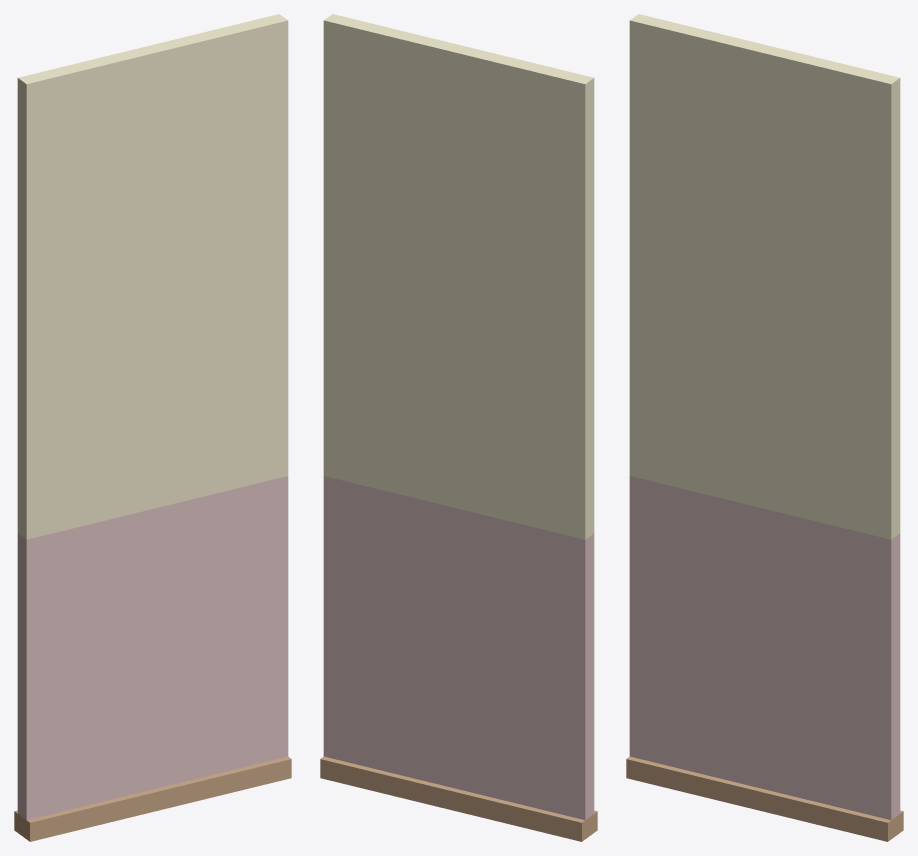
File: wall_1.fbx
3 views of the same model, side by side, from view 1: azimuth 30°, elevation 25°; view 2: azimuth 150°, elevation 25°; view 3: azimuth 330°, elevation 25° (orthographic).
Visible parts, largest first — view 1: Cube_4; view 2: Cube_4; view 3: Cube_4.
Boxes of the visible parts, <box> form: Cube_4: <box>14,14,291,841</box>; Cube_4: <box>320,14,597,841</box>; Cube_4: <box>626,14,903,841</box>.
Size of the model in its own units: 32.36 by 89.3 by 3.39.
